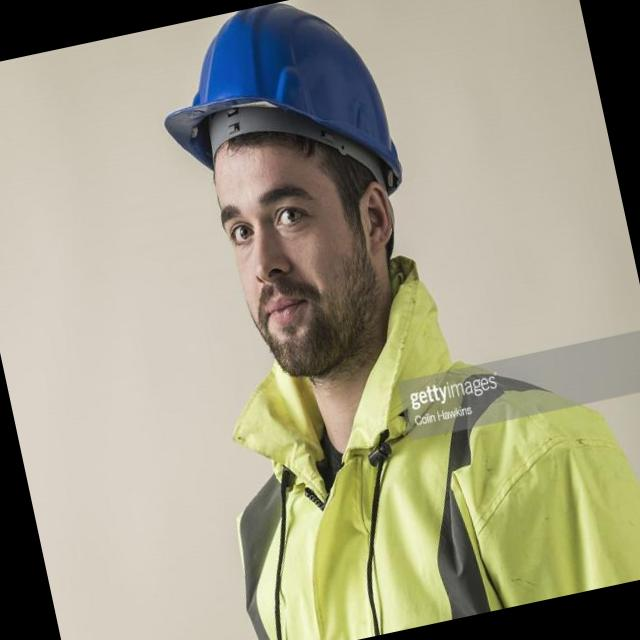Helmet: (124, 0, 456, 212)
